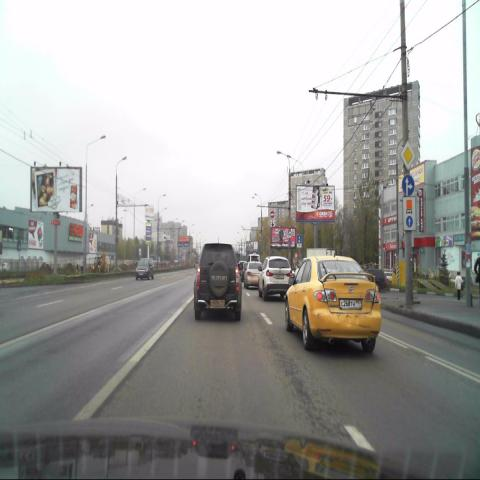4_8_2: (402, 197, 416, 231)
